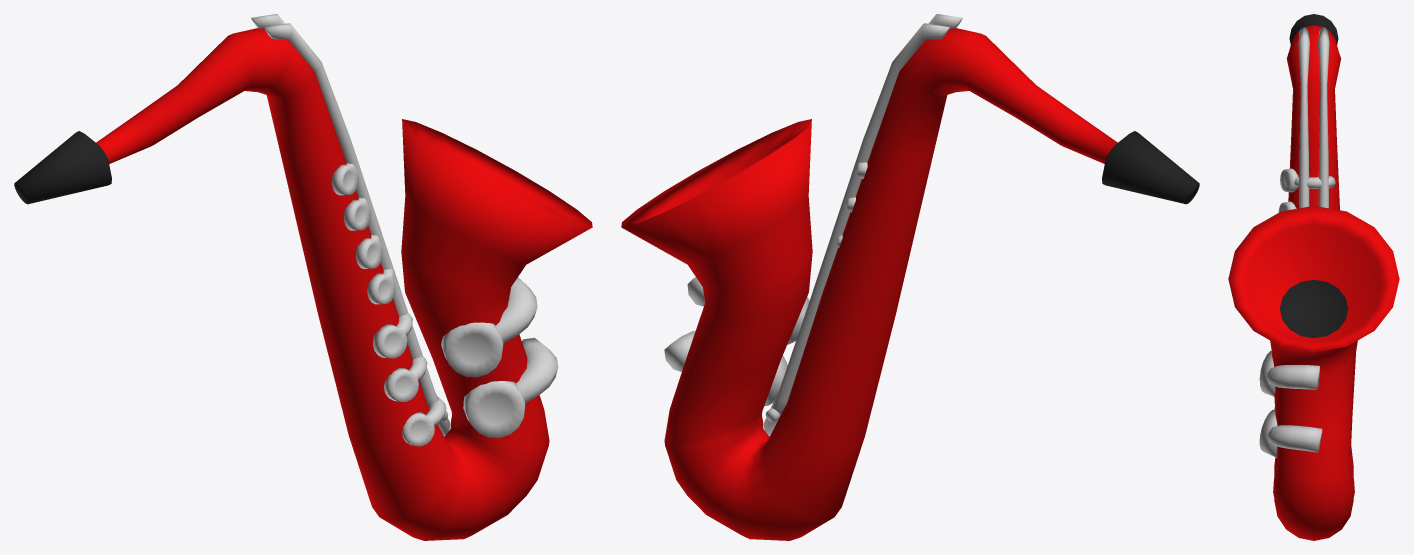
File: saxophone.fbx
3 views of the same model, side by side, from view 1: azimuth 30°, elevation 25°; view 2: azimuth 150°, elevation 25°; view 3: azimuth 270°, elevation 25° (orthographic). The views are drawn at different scales.
Parts seen in each view (by area): view 1: Saxophone; view 2: Saxophone; view 3: Saxophone.
Boxes of the visible parts, x1=… form: Saxophone: x1=14, y1=14, x2=592, y2=540; Saxophone: x1=621, y1=14, x2=1199, y2=540; Saxophone: x1=1228, y1=14, x2=1399, y2=540.
Bounding box in the file's own units: 204 × 195 × 69.76.
